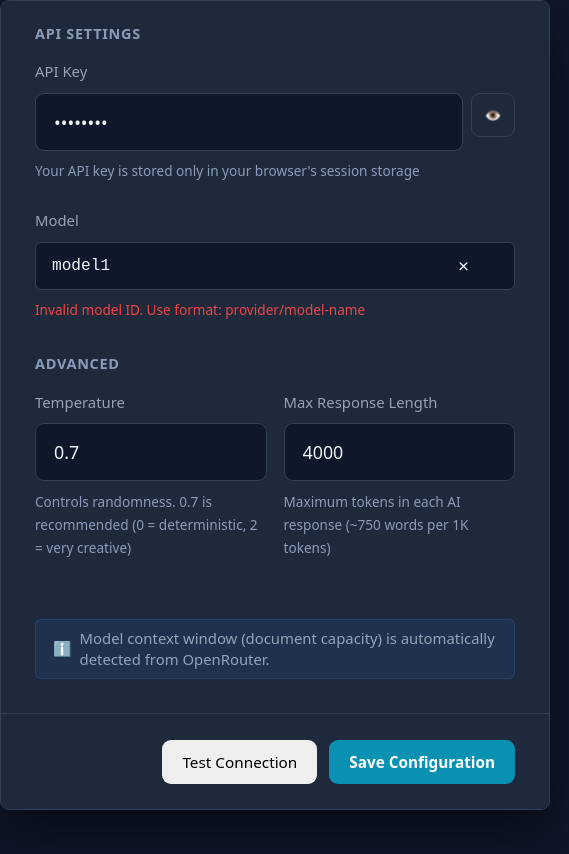
Scenario: LLMConfigPanel › Test Connection › should validate config before testing connection
(page scrolled)
Click the button "Test Connection" at (240, 762), box [162, 740, 317, 784]
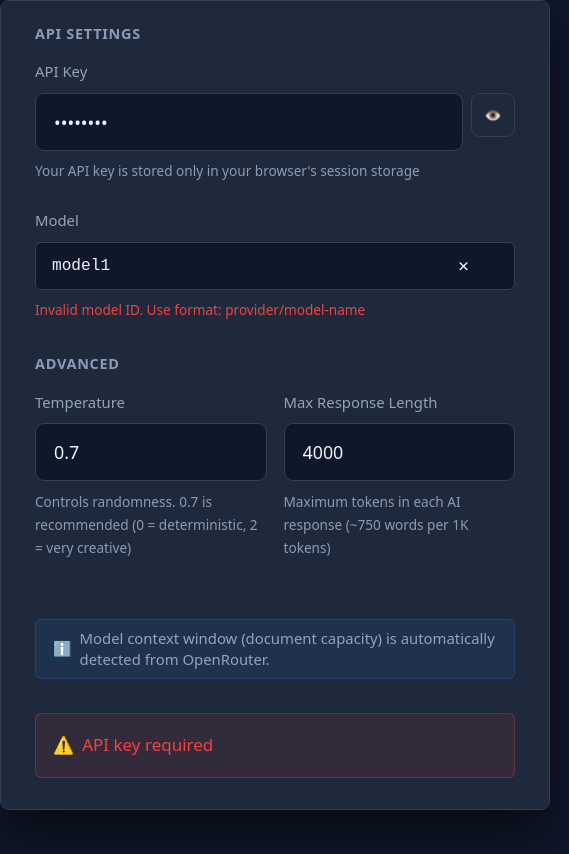
Check: the text "⚠️ API key required" is shown, box [35, 713, 515, 778]
